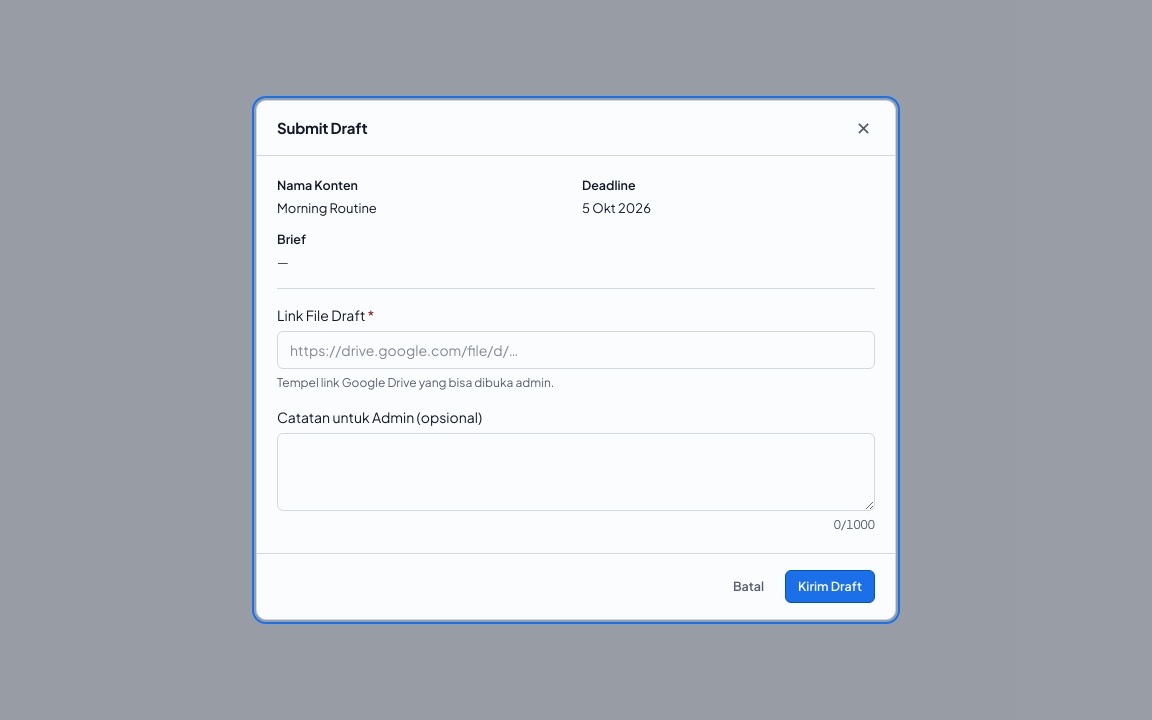
Test: SubmitDraftModal › shows a field error and keeps the modal open when submission validation fails
# A Drive link the server still refuses: its message wins over the live check.
Type "https://drive.google.com/file/d/abc" into the field labelled "Link File Draft" at coordinates (576, 350), box [277, 331, 875, 369]
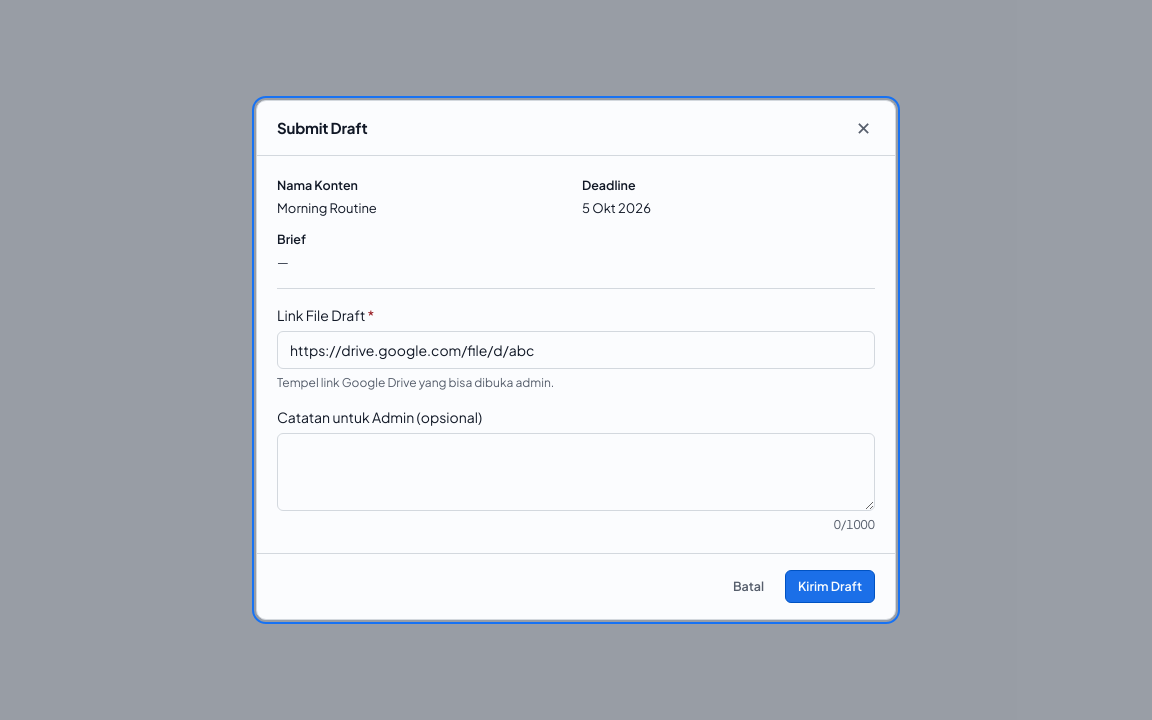
Click the button "Kirim Draft" at coordinates (830, 587), box [785, 570, 875, 603]
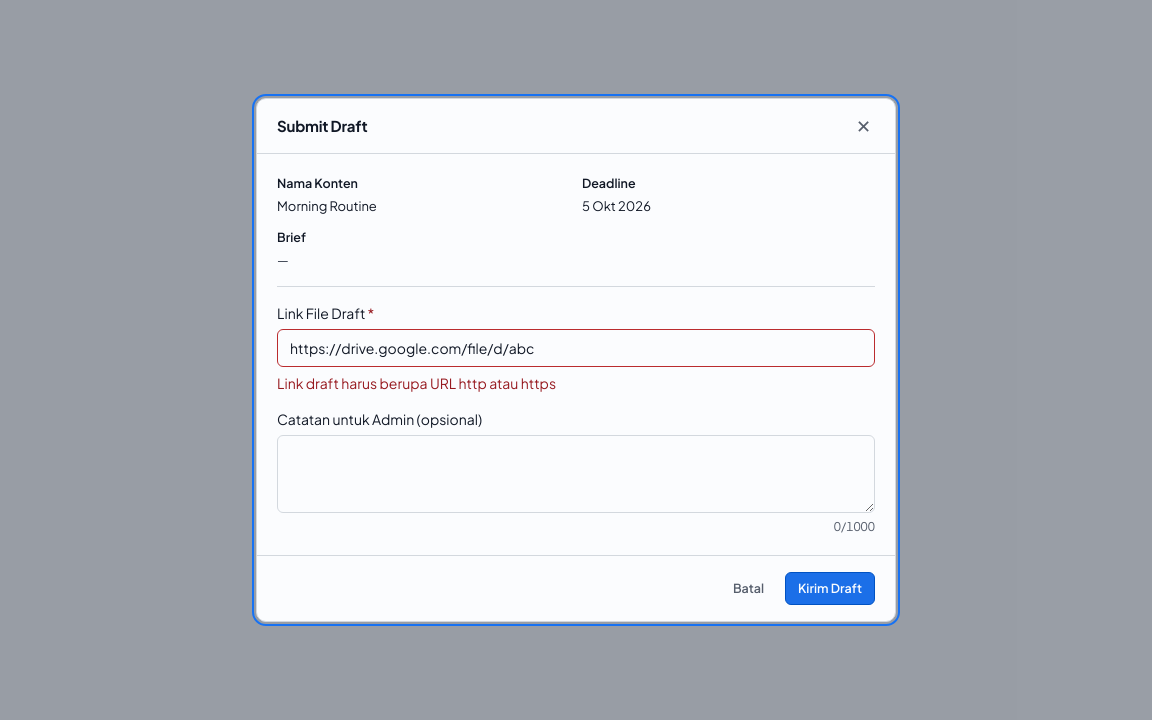
Expected: the text "Link draft harus berupa URL http atau https" is shown, [277, 374, 556, 392]
